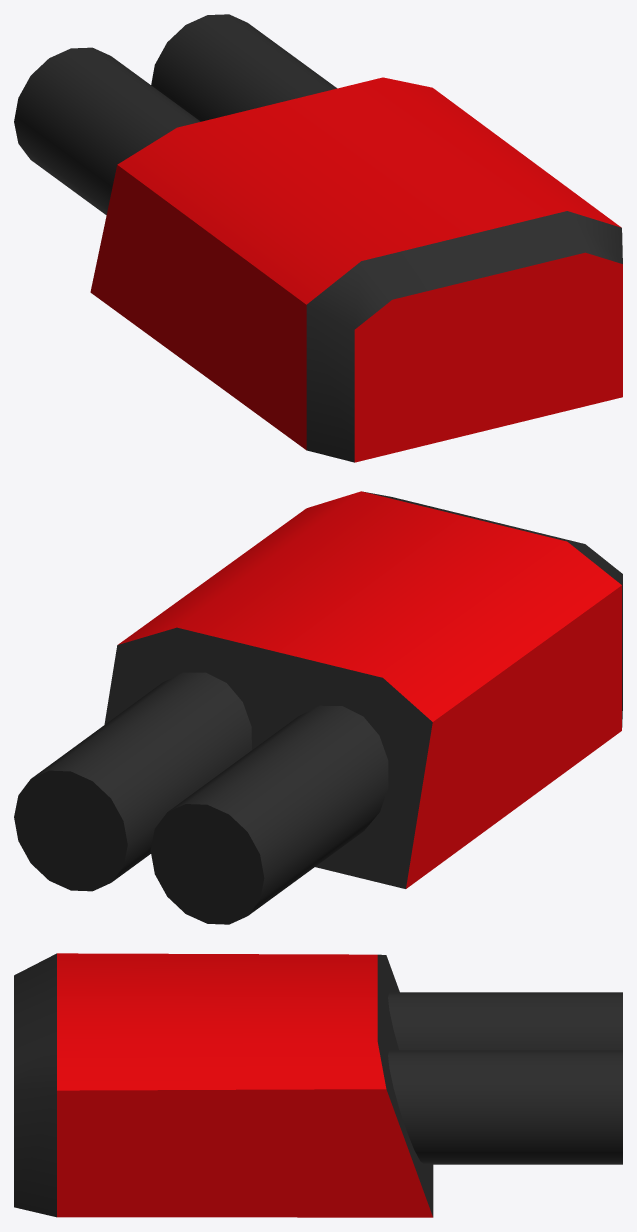
File: SM_Module_TurretHead_BO.fbx
The picture shows the model from 3 angles, top to bottom: view 1: azimuth 30°, elevation 25°; view 2: azimuth 150°, elevation 25°; view 3: azimuth 270°, elevation 25°; orthographic projection. The views are drawn at different scales.
Visible parts, largest first — view 1: SM_Module_TurretHead_BO; view 2: SM_Module_TurretHead_BO; view 3: SM_Module_TurretHead_BO.
Boxes of the visible parts, x1=… form: SM_Module_TurretHead_BO: x1=14, y1=14, x2=622, y2=462; SM_Module_TurretHead_BO: x1=14, y1=491, x2=622, y2=924; SM_Module_TurretHead_BO: x1=14, y1=953, x2=622, y2=1217.
Bounding box in the file's own units: 1.59 × 3.05 × 0.8477.
